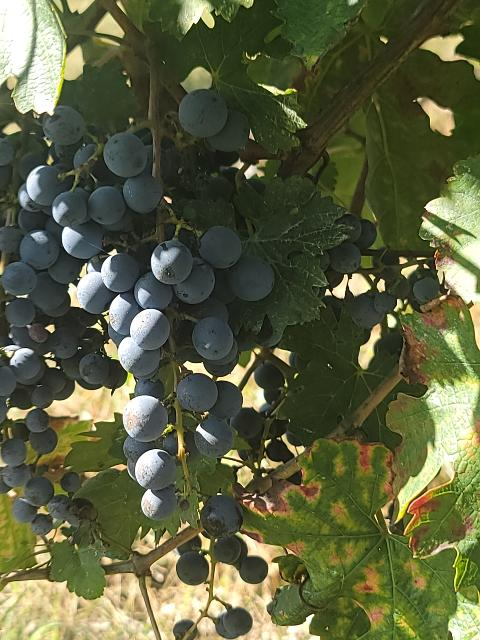grapes: (45, 130, 302, 582), (0, 106, 126, 535)
